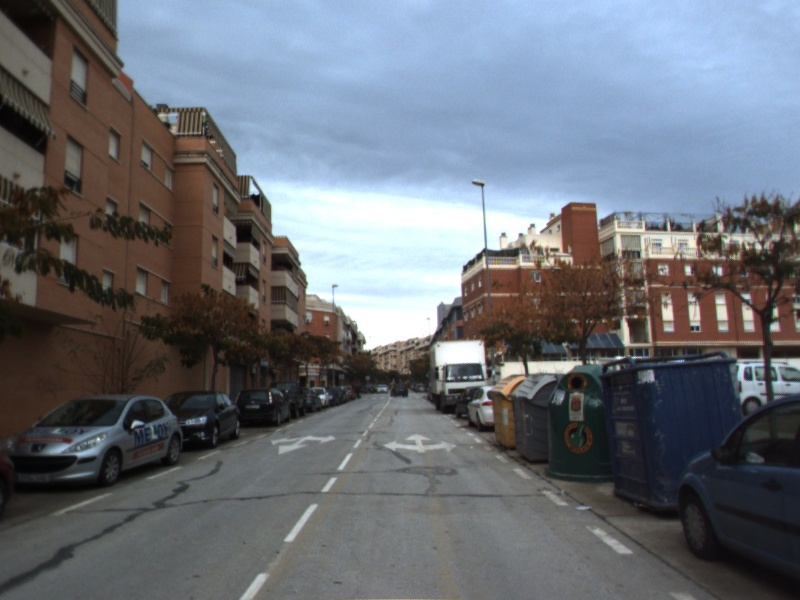STRAIGHT_LEFT_RIGHT: (381, 431, 459, 455)
